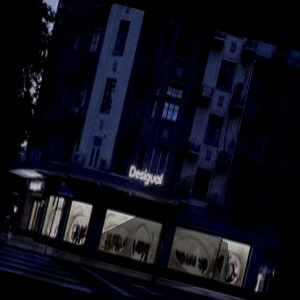desigual: (90, 82, 243, 260)
